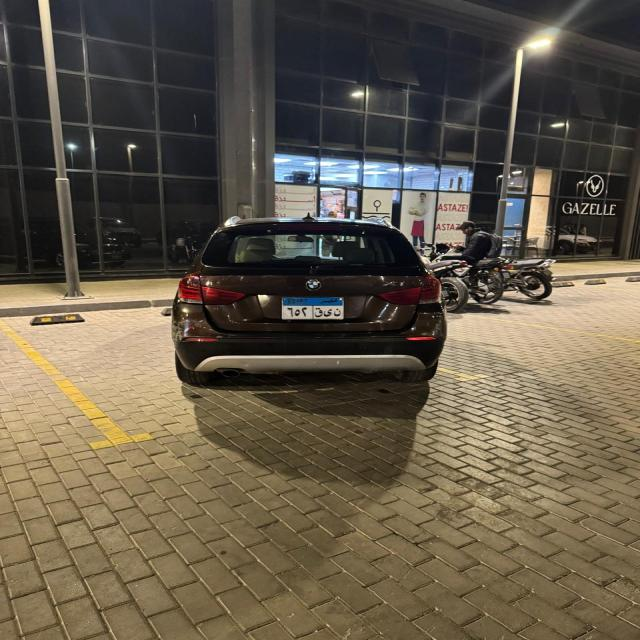car-plate: (282, 298, 342, 318)
